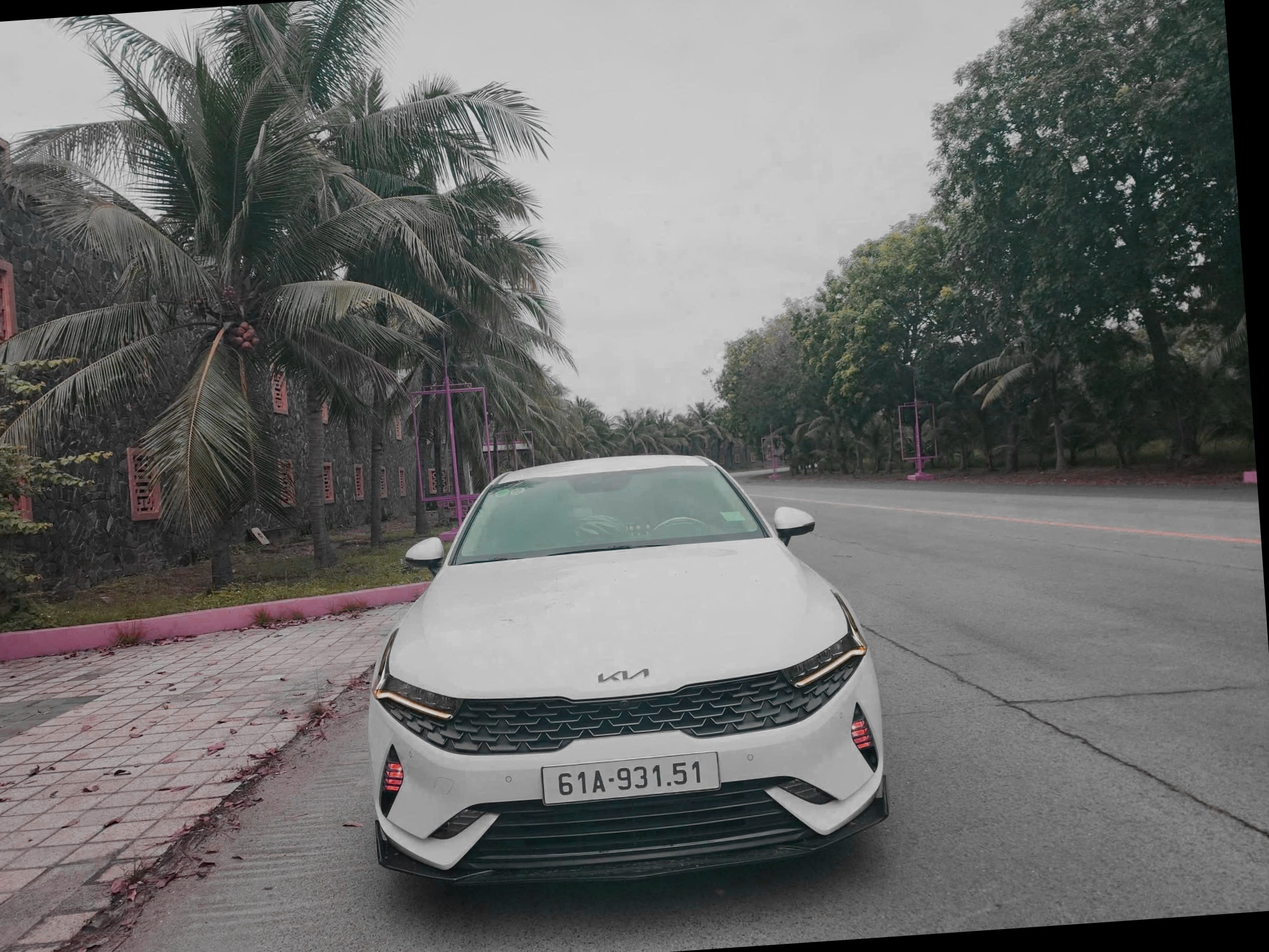Bien-so: (507, 727, 694, 780)
